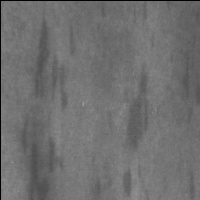inclusion: (25, 8, 70, 115), (19, 113, 60, 200), (119, 59, 151, 157), (174, 52, 199, 127), (118, 164, 138, 200), (63, 18, 79, 60), (184, 171, 199, 199)
